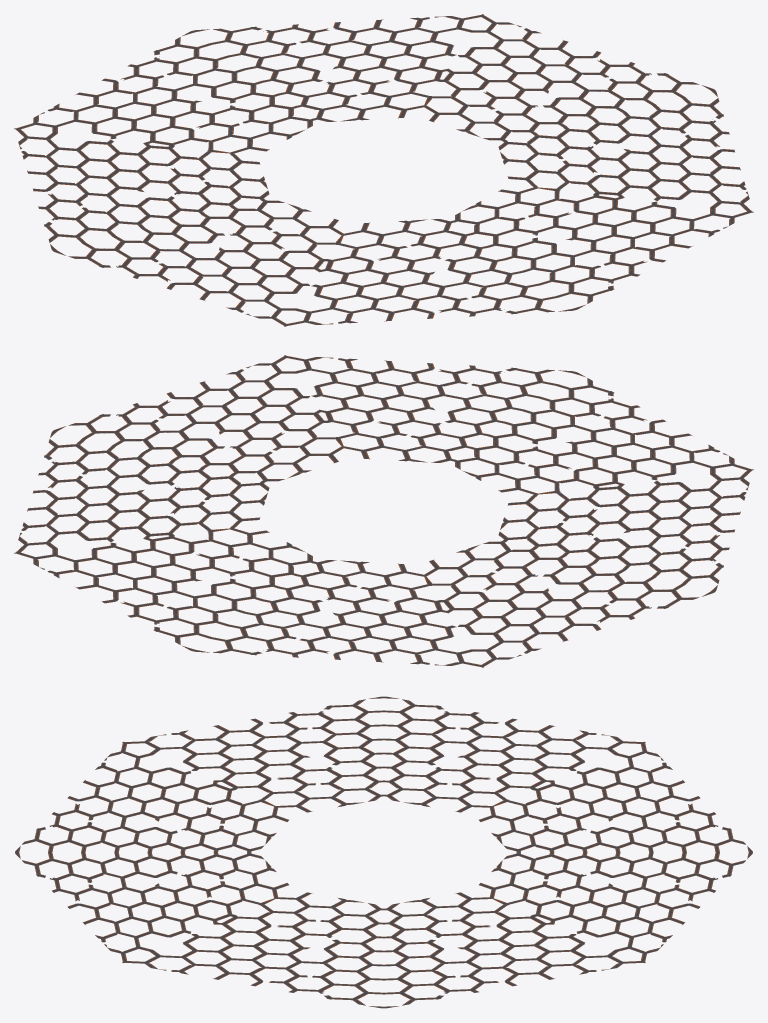
The model's file is huoshan_wujian01a.fbx.
The picture shows the model from 3 angles, top to bottom: view 1: azimuth 30°, elevation 25°; view 2: azimuth 150°, elevation 25°; view 3: azimuth 270°, elevation 25°; orthographic projection. The views are drawn at different scales.
Visible parts, largest first — view 1: huoshan_wujian01a; view 2: huoshan_wujian01a; view 3: huoshan_wujian01a.
Part boxes in pixels (x1=…): huoshan_wujian01a: x1=14, y1=14, x2=753, y2=326; huoshan_wujian01a: x1=14, y1=355, x2=753, y2=667; huoshan_wujian01a: x1=15, y1=696, x2=752, y2=1008.
Size of the model in its own units: 4.48 by 1.92e-07 by 4.48.
